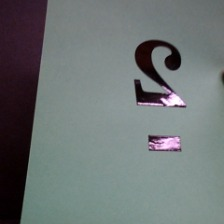green2: (127, 36, 193, 158)
